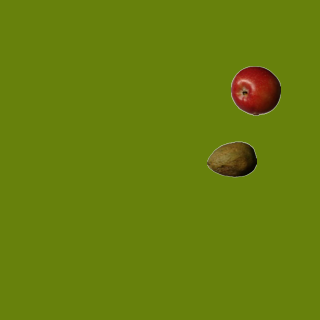Apple Braeburn: (230, 65, 280, 115)
Papaya: (206, 134, 256, 184)
